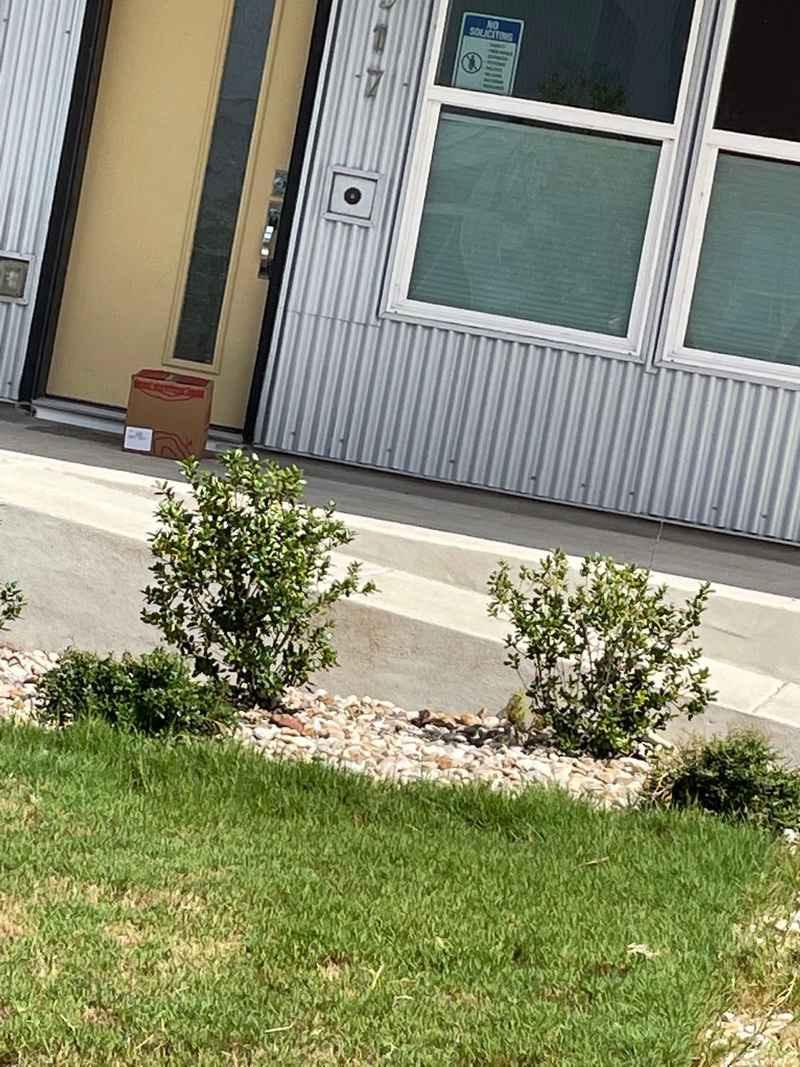package: (117, 364, 214, 467)
